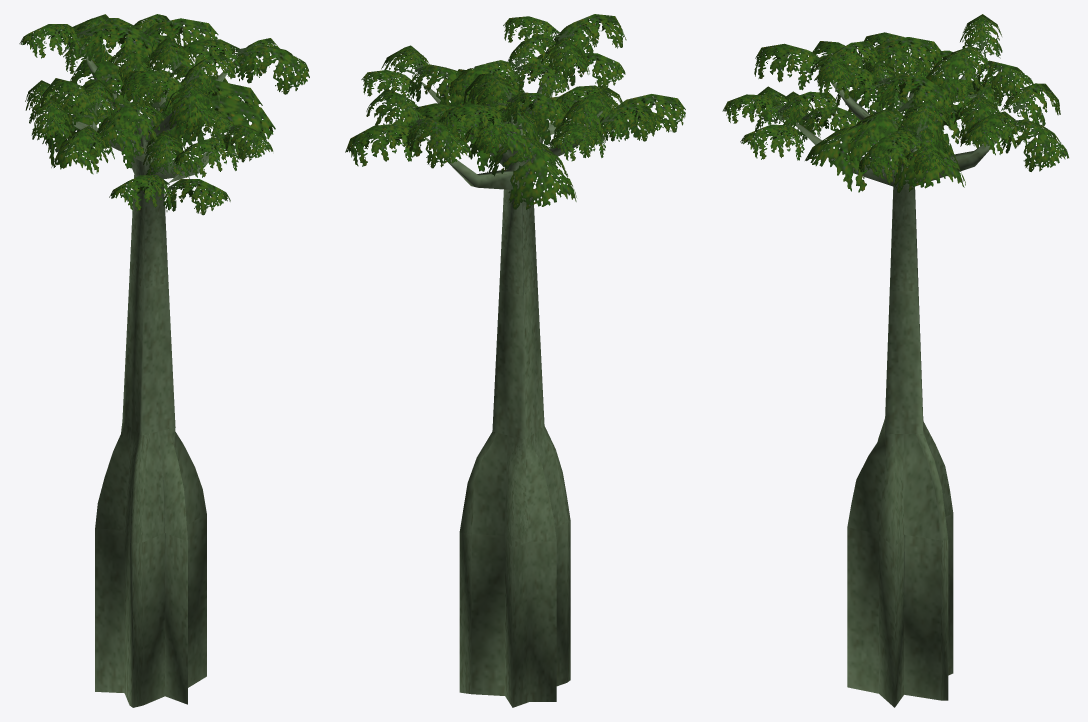
The model's file is jungle_tree_1_8.dae.
The picture shows the model from 3 angles, left to right: view 1: azimuth 30°, elevation 25°; view 2: azimuth 150°, elevation 25°; view 3: azimuth 270°, elevation 25°; orthographic projection.
Visible parts, largest first — view 1: Plane.025; view 2: Plane.025; view 3: Plane.025.
Boxes of the visible parts, <box> form: Plane.025: <box>19,14,309,707</box>; Plane.025: <box>345,14,685,707</box>; Plane.025: <box>722,14,1068,707</box>.
Size of the model in its own units: 0.4632 by 0.5039 by 1.
1 material, 1 textured.
